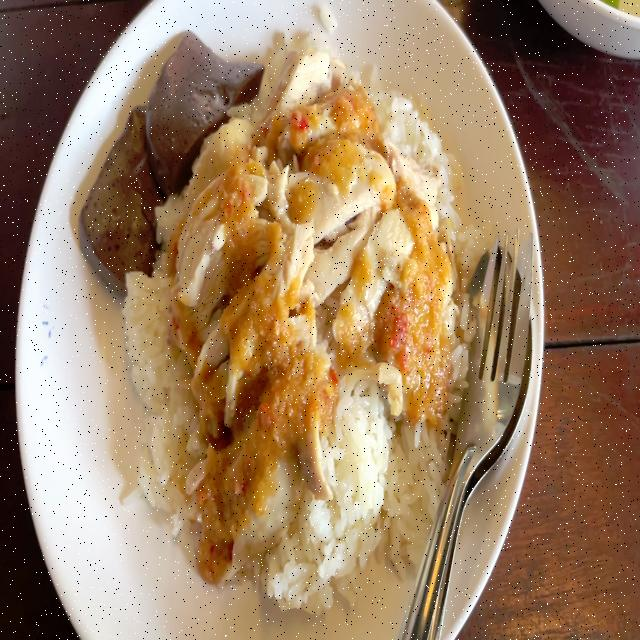boiled_chicken: (189, 52, 443, 508)
boiled_chicken_blood_jelly: (139, 25, 251, 178), (73, 105, 160, 292)
chicken_rice: (74, 19, 485, 613)
